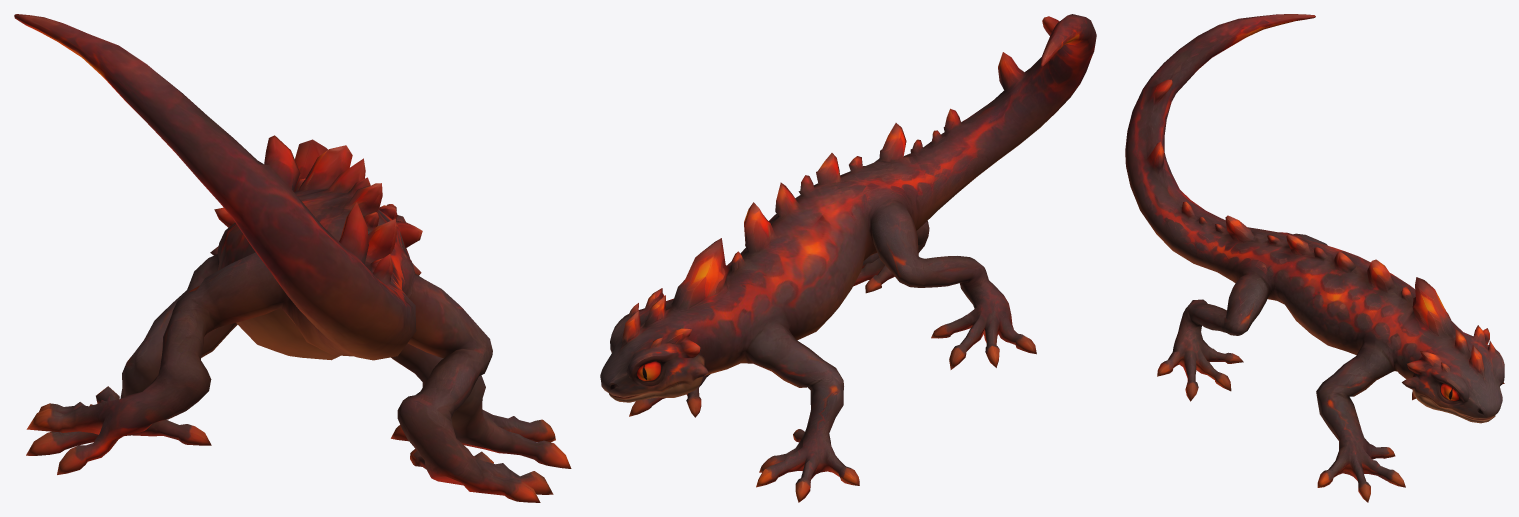
Rendered from source-original.glb.
The picture shows the model from 3 angles, left to right: view 1: azimuth 30°, elevation 25°; view 2: azimuth 150°, elevation 25°; view 3: azimuth 270°, elevation 25°; orthographic projection. The views are drawn at different scales.
Parts seen in each view (by area): view 1: tripo_node_52064c3f-6697-41d9-bda7-33cb4a9bd1c0; view 2: tripo_node_52064c3f-6697-41d9-bda7-33cb4a9bd1c0; view 3: tripo_node_52064c3f-6697-41d9-bda7-33cb4a9bd1c0.
Boxes of the visible parts, x1=… form: tripo_node_52064c3f-6697-41d9-bda7-33cb4a9bd1c0: x1=14, y1=14, x2=571, y2=502; tripo_node_52064c3f-6697-41d9-bda7-33cb4a9bd1c0: x1=600, y1=14, x2=1096, y2=502; tripo_node_52064c3f-6697-41d9-bda7-33cb4a9bd1c0: x1=1125, y1=14, x2=1504, y2=502.
Bounding box in the file's own units: 0.9785 × 0.9746 × 0.998.
1 material, 1 textured.
